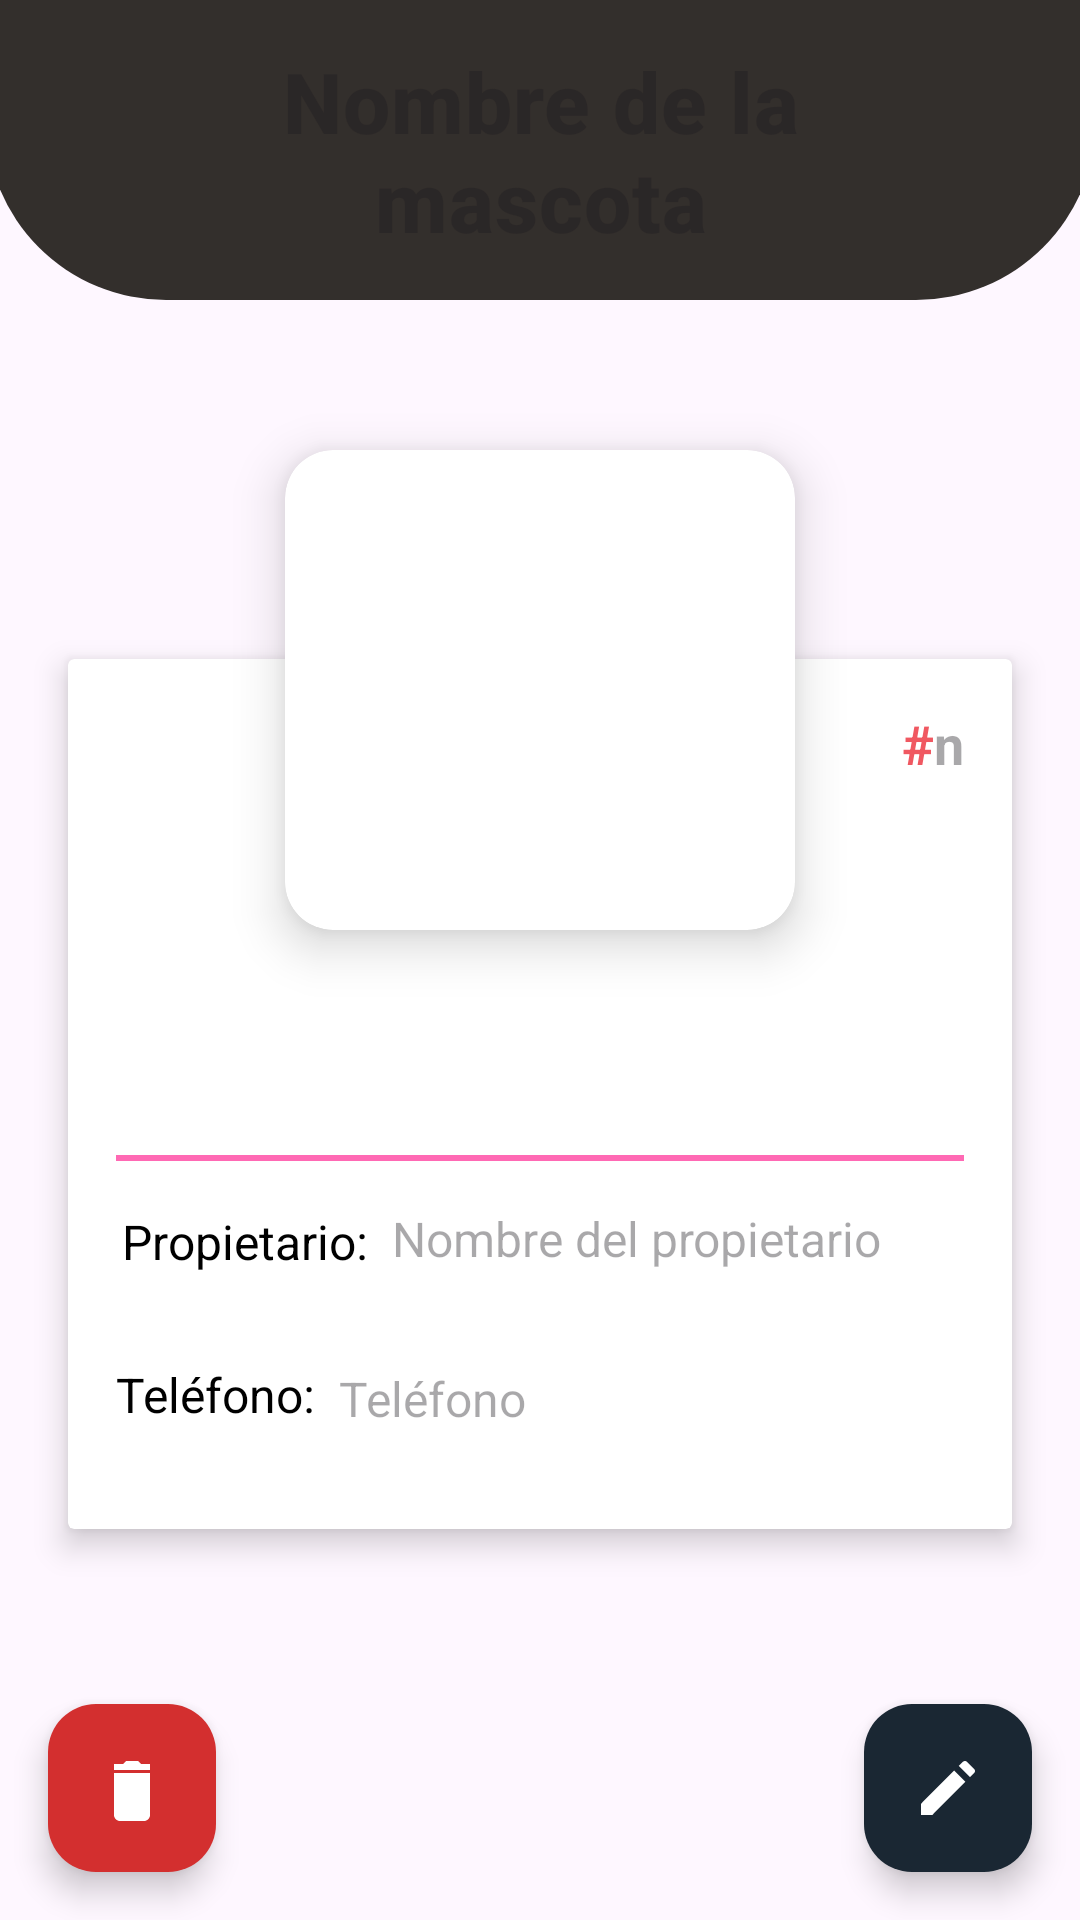

Named icons in this screenshot (1080*1920) and their bounding boxes, (x1, y1, x2, y2):
Editar Cita: (864, 1704, 1032, 1872)
Eliminar Cita: (48, 1704, 216, 1872)
